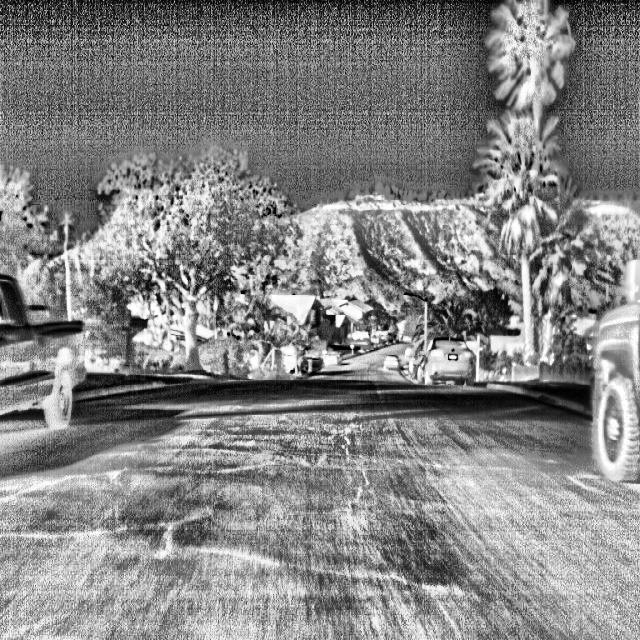car: (578, 259, 640, 491), (2, 270, 82, 419), (417, 322, 487, 415), (378, 342, 405, 380)
